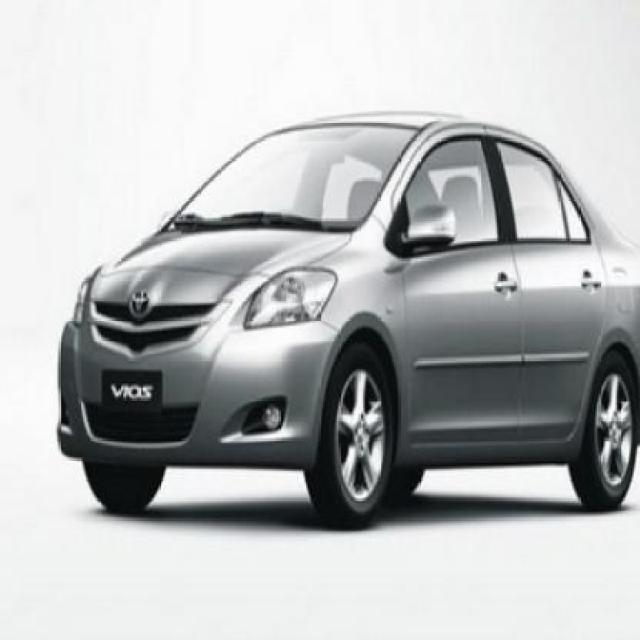ToyotaVios: (54, 108, 638, 529)
